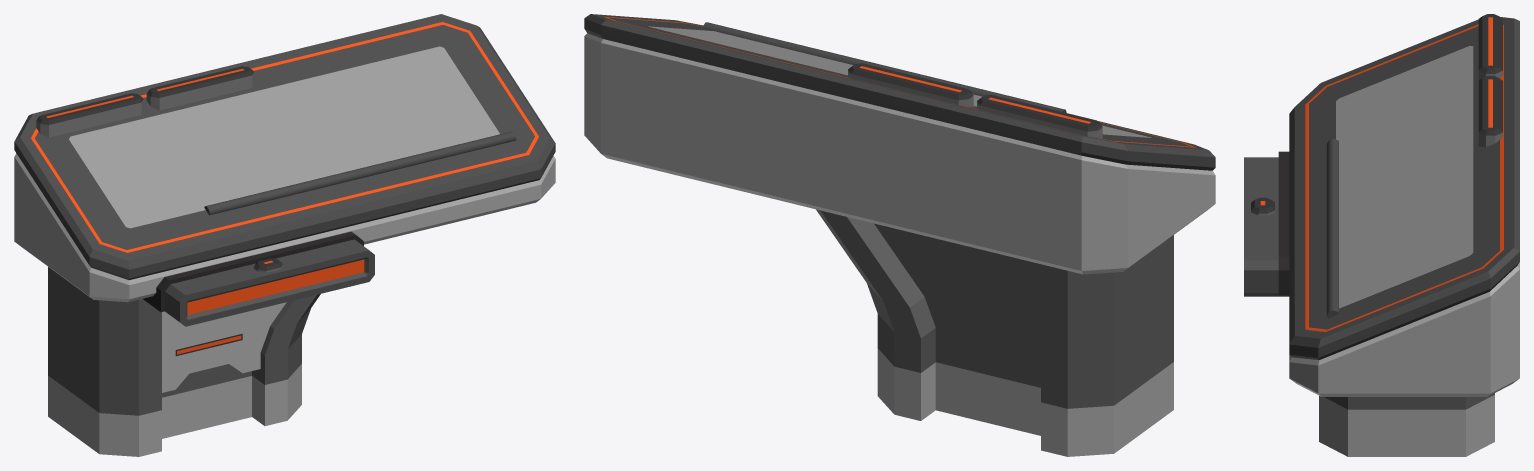
Rendered from Terminal_008.fbx.
3 views of the same model, side by side, from view 1: azimuth 30°, elevation 25°; view 2: azimuth 150°, elevation 25°; view 3: azimuth 270°, elevation 25° (orthographic). The views are drawn at different scales.
Visible parts, largest first — view 1: Terminal_008; view 2: Terminal_008; view 3: Terminal_008.
Part boxes in pixels (x1=…): Terminal_008: x1=14, y1=14, x2=555, y2=456; Terminal_008: x1=584, y1=14, x2=1215, y2=456; Terminal_008: x1=1244, y1=14, x2=1519, y2=456.
Bounding box in the file's own units: 204 × 91.31 × 121.
